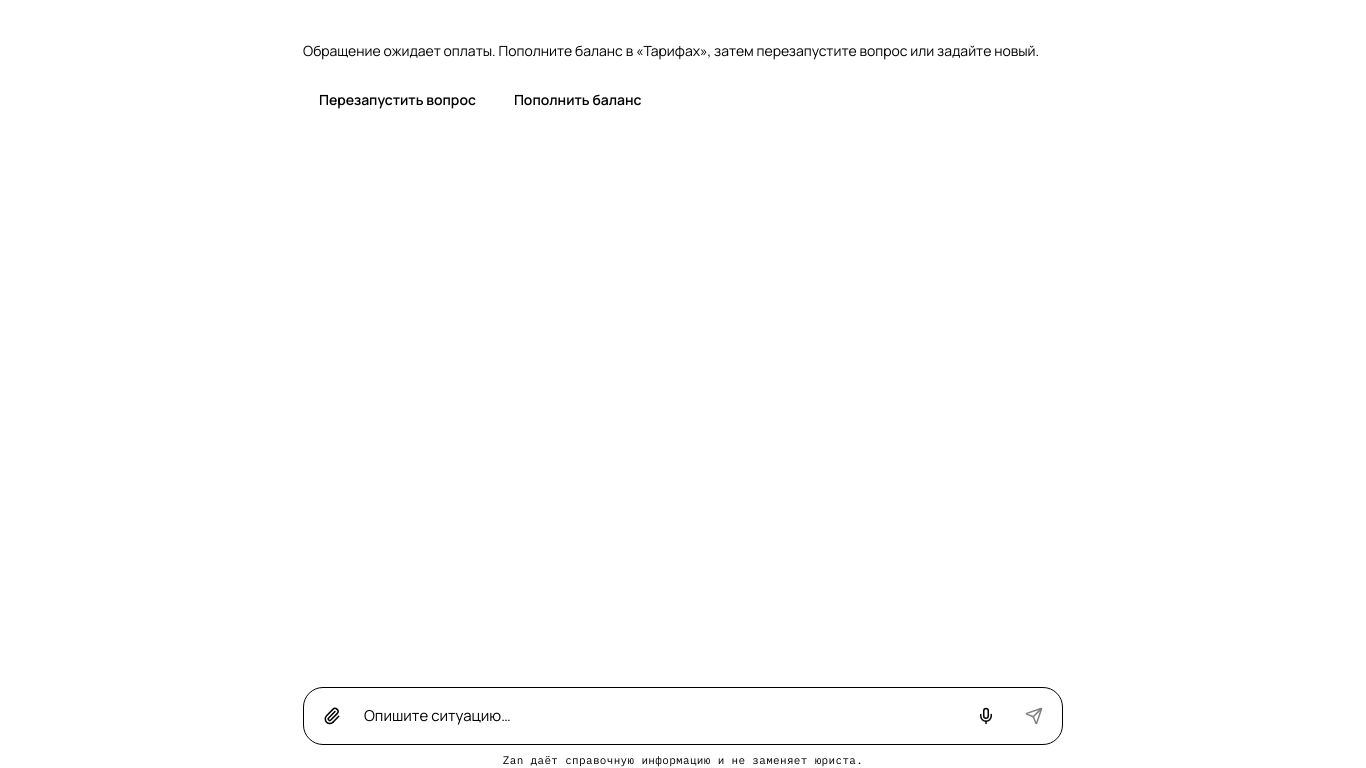
Test case: ChatPage › перезапуск без баланса — снова предлагает оплату
Click the button "Перезапустить вопрос".
click(397, 99)  # box [303,77,492,121]
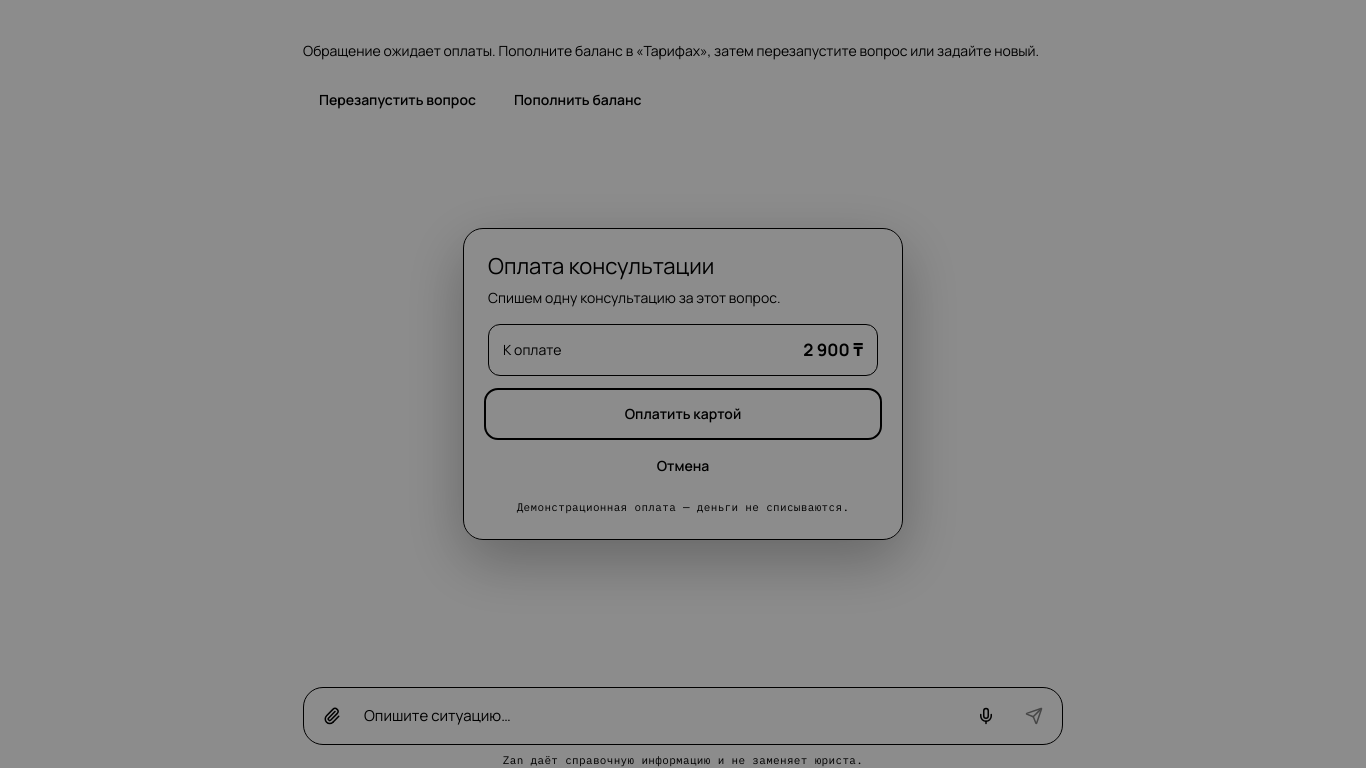
Now the dialog "Оплата консультации" is shown, box [463,228,903,540]
